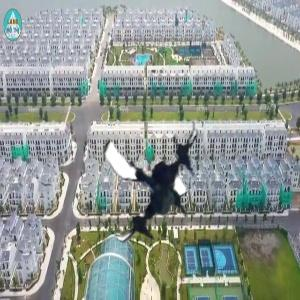drone: (87, 115, 221, 249)
